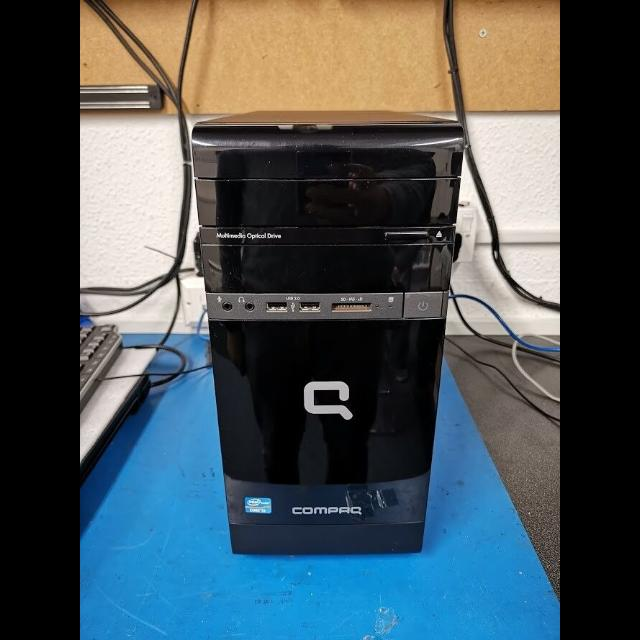Desktop-PC: (192, 105, 470, 561)
